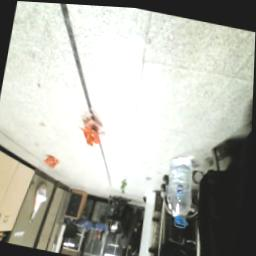herb: (120, 175, 131, 194)
wild: (78, 123, 106, 150), (42, 154, 61, 170)
